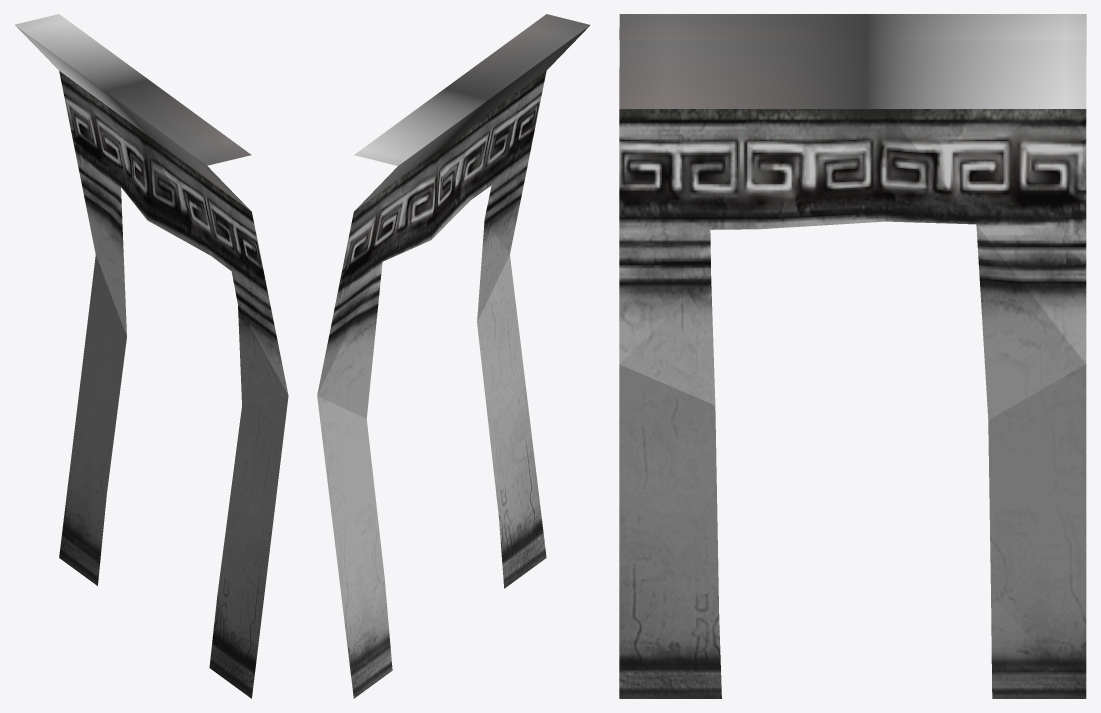
File: W_A3_o [Verziert2]_178.glb
3 renders of one model, left to right at view 1: azimuth 30°, elevation 25°; view 2: azimuth 150°, elevation 25°; view 3: azimuth 270°, elevation 25°, orthographic. The views are drawn at different scales.
Visible parts, largest first — view 1: polySurfaceShape1213, polySurfaceShape1215; view 2: polySurfaceShape1213, polySurfaceShape1215; view 3: polySurfaceShape1213, polySurfaceShape1215.
Part boxes in pixels (x1,y1,x2,y2): polySurfaceShape1213: [59, 71, 288, 698]; polySurfaceShape1215: [15, 14, 251, 211]; polySurfaceShape1213: [317, 71, 546, 698]; polySurfaceShape1215: [354, 14, 590, 211]; polySurfaceShape1213: [619, 109, 1086, 698]; polySurfaceShape1215: [619, 14, 1086, 108].
Bounding box in the file's own units: 0.0607 × 0.3891 × 0.2503.
2 materials, 2 textured.
